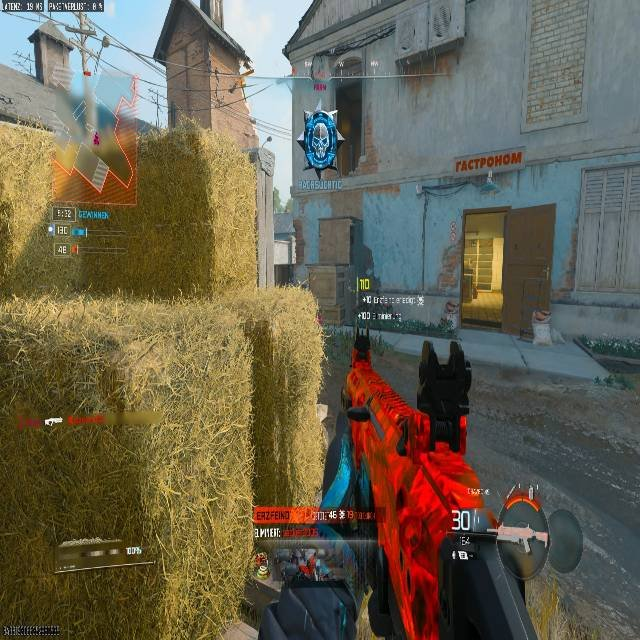player: (303, 107, 338, 176)
